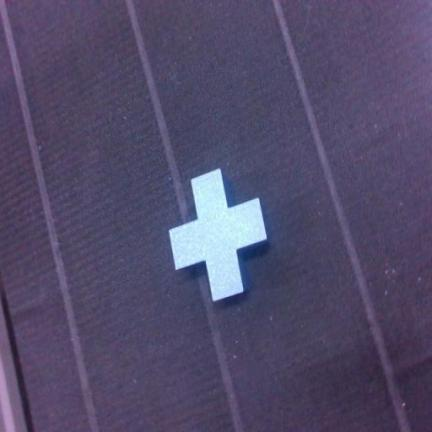cross: (170, 170, 266, 301)
